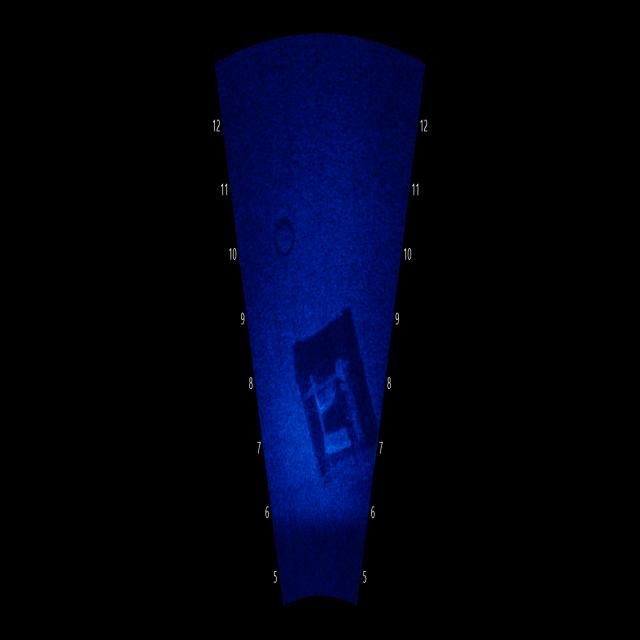square: (290, 333, 373, 498)
